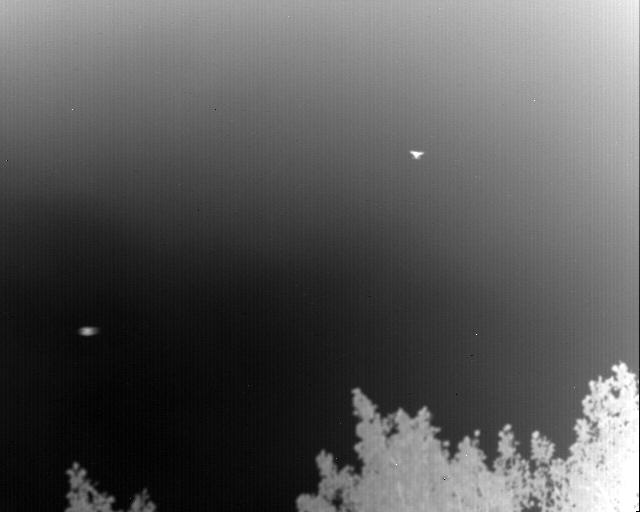plane: (409, 150, 425, 160)
